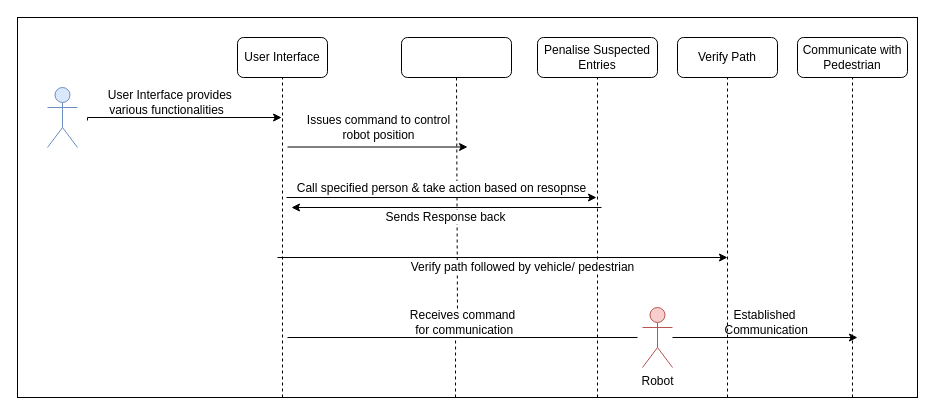
Some shapes in this 935 by 416 pixel diagram are drawn without their labels. Here are the shapes that lost their labels. From the top down, the box of each, then its label:
(400, 36, 512, 78): Robot Controls
(46, 86, 78, 148): Police Officer
